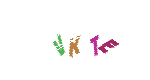E: (62, 0, 142, 80)
K: (34, 0, 114, 80)
T: (37, 0, 117, 80)
V: (19, 0, 99, 80)
